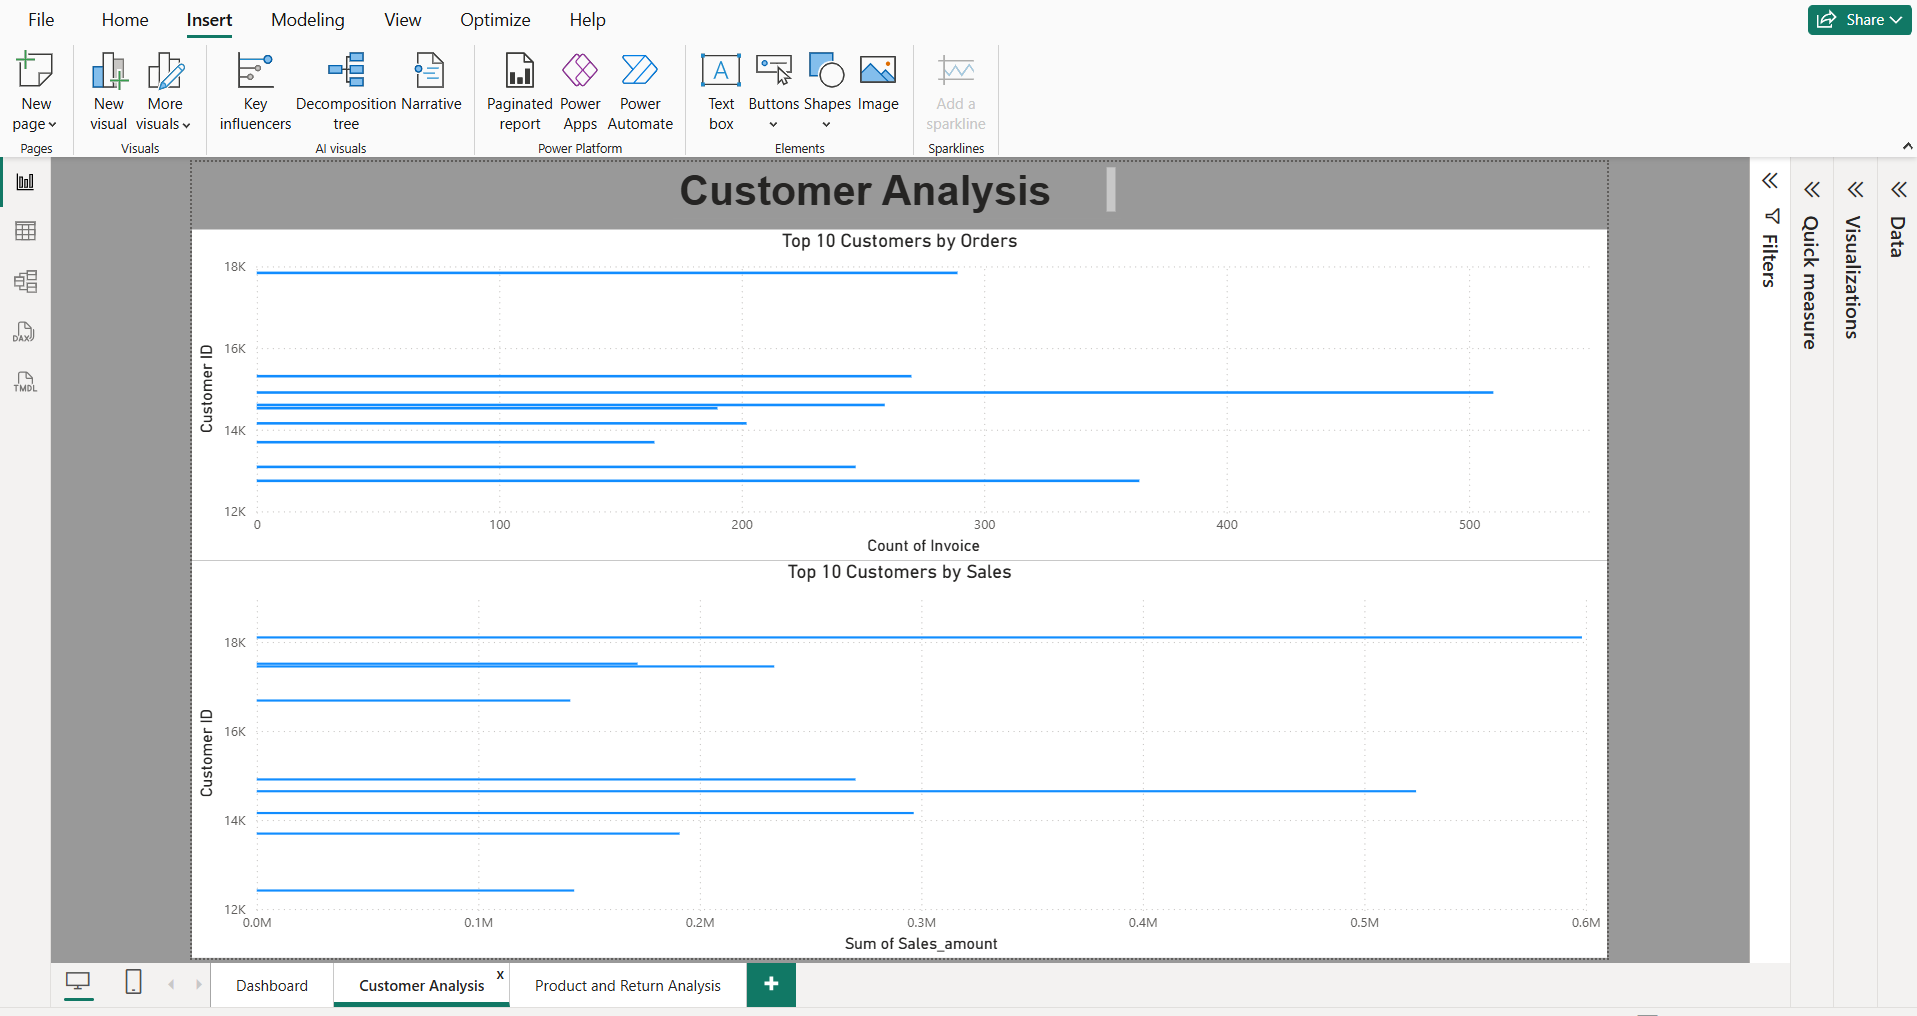

What the dashboard file says about the page in this screenshot:
{"tool":"powerbi","page":{"name":"Customer Analysis","canvas":[1280,720],"ordinal":1},"visuals":[{"type":"textbox","box":[434.7,0,404.8,51.3],"z":0},{"type":"clusteredBarChart","title":"Top 10 Customers by Sales","fields":{"Category":["Sales_Data.Customer ID"],"Y":["Sum(Sales_Data.Sales_amount)"]},"box":[0,360.6,1280,359.2],"z":1},{"type":"clusteredBarChart","title":"Top 10 Customers by Orders","fields":{"Category":["Sales_Data.Customer ID"],"Y":["Count(Sales_Data.Invoice)"]},"box":[0,61.3,1280,299.3],"z":2}]}

Visuals, with their boxes on the page's 1280x720 design canvas (x1, y1, x2, y2). These are canvas units, not pixel positions in the 1917x1016 screenshot, which may show the page scaled, cropped or inside an application window:
textbox: [435, 0, 840, 51]
"Top 10 Customers by Sales" clusteredBarChart: [0, 361, 1280, 720]
"Top 10 Customers by Orders" clusteredBarChart: [0, 61, 1280, 361]
